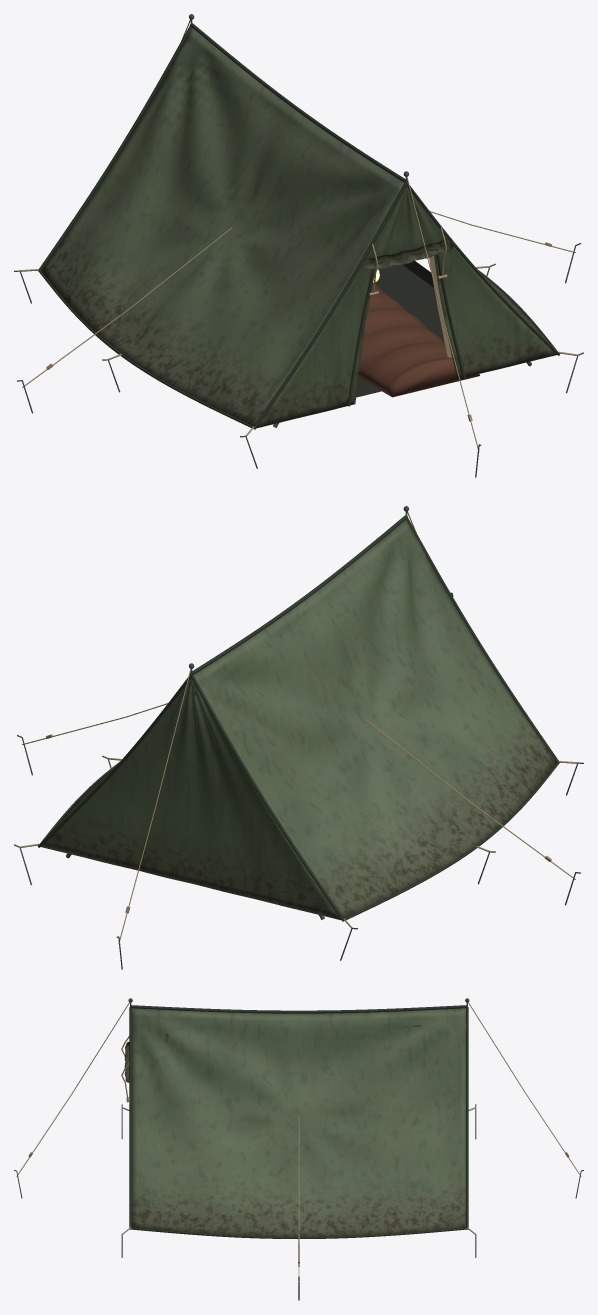
Rendered from tent.glb.
3 renders of one model, top to bottom at view 1: azimuth 30°, elevation 25°; view 2: azimuth 150°, elevation 25°; view 3: azimuth 270°, elevation 25°, orthographic. The views are drawn at different scales.
Visible parts, largest first — view 1: Fly, SleepingBag, FlyTrim, TentFloor, GuyLines, DoorRoll; view 2: Fly, FlyTrim, GuyLines; view 3: Fly, FlyTrim, GuyLines, Pegs.
Part boxes in pixels (bbox=[...]): Fly: bbox=[41, 28, 556, 428]; SleepingBag: bbox=[358, 283, 479, 397]; FlyTrim: bbox=[38, 23, 559, 429]; TentFloor: bbox=[356, 261, 444, 397]; GuyLines: bbox=[20, 19, 577, 451]; DoorRoll: bbox=[362, 238, 453, 269]; Fly: bbox=[41, 519, 556, 920]; FlyTrim: bbox=[38, 515, 559, 921]; GuyLines: bbox=[20, 511, 577, 943]; Fly: bbox=[132, 1008, 466, 1238]; FlyTrim: bbox=[129, 1005, 468, 1238]; GuyLines: bbox=[16, 1002, 581, 1282]; Pegs: bbox=[14, 1104, 583, 1300].
Size of the model in its own units: 2.95 by 1.28 by 3.3.
Materials: 9 (1 with a texture image).
